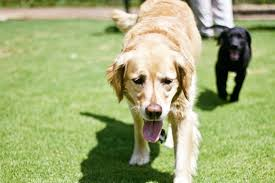dog: (125, 55, 179, 144)
